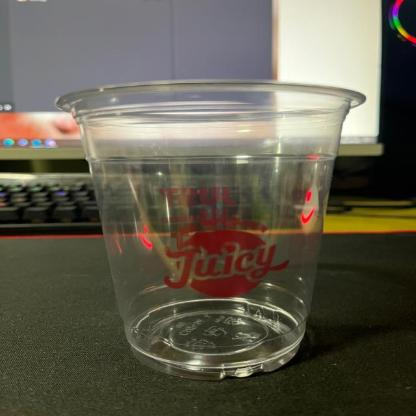Plastic Cup: (56, 78, 368, 382)
